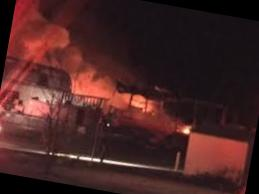Smoke: (0, 4, 155, 118)
